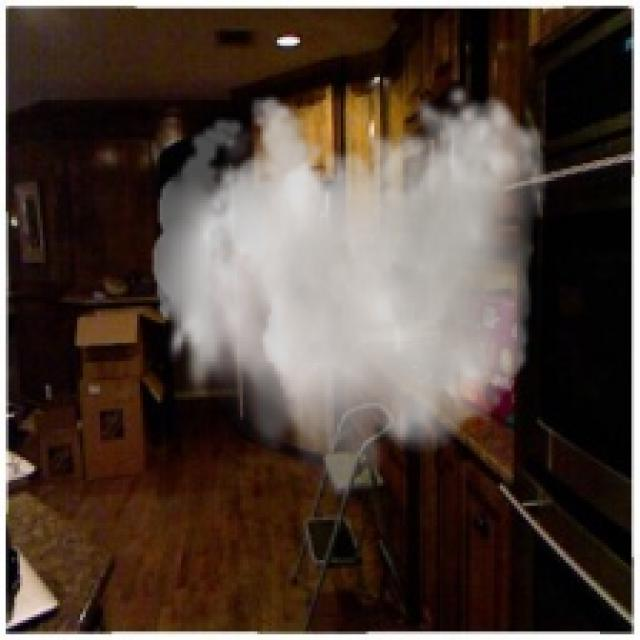smoke: (152, 83, 548, 506)
